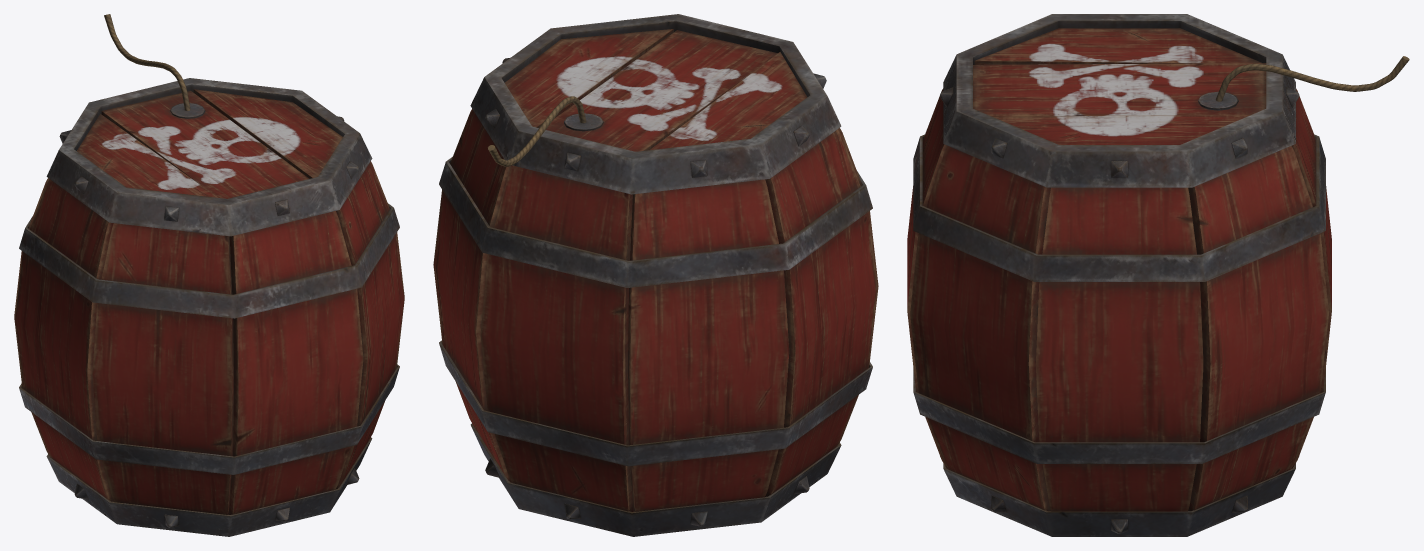
File: Gunpowder Barrel_1.fbx
The picture shows the model from 3 angles, left to right: view 1: azimuth 30°, elevation 25°; view 2: azimuth 150°, elevation 25°; view 3: azimuth 270°, elevation 25°; orthographic projection. The views are drawn at different scales.
Visible parts, largest first — view 1: Gunpowder Barrel_1; view 2: Gunpowder Barrel_1; view 3: Gunpowder Barrel_1.
Part boxes in pixels (<box>): Gunpowder Barrel_1: <box>14,14,404,536</box>; Gunpowder Barrel_1: <box>433,14,878,536</box>; Gunpowder Barrel_1: <box>907,14,1409,536</box>.
Bounding box in the file's own units: 112 × 123 × 133.
